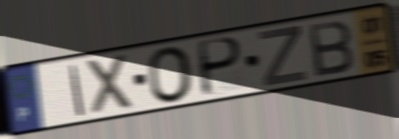B: (306, 17, 356, 79)
I: (68, 63, 87, 119)
O: (145, 44, 196, 105)
P: (198, 35, 245, 99)
X: (84, 51, 137, 118)
Z: (256, 24, 310, 89)
